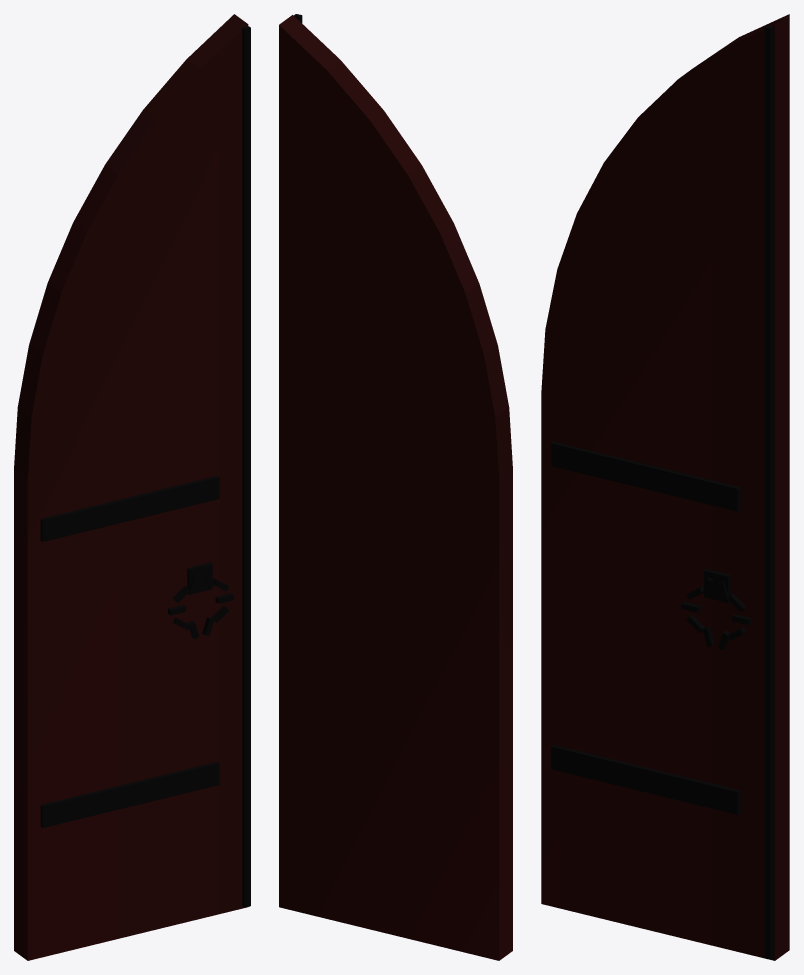
The model's file is SilverbrookNorthridgeHouse2_Door1.fbx.
The picture shows the model from 3 angles, left to right: view 1: azimuth 30°, elevation 25°; view 2: azimuth 150°, elevation 25°; view 3: azimuth 330°, elevation 25°; orthographic projection. The views are drawn at different scales.
Visible parts, largest first — view 1: SM_SBNorthridgeHouse2_Door1_Part; view 2: SM_SBNorthridgeHouse2_Door1_Part; view 3: SM_SBNorthridgeHouse2_Door1_Part.
Part boxes in pixels (x1,y1,x2,y2): SM_SBNorthridgeHouse2_Door1_Part: (14, 14, 250, 960); SM_SBNorthridgeHouse2_Door1_Part: (279, 14, 512, 960); SM_SBNorthridgeHouse2_Door1_Part: (541, 14, 789, 960).
Bounding box in the file's own units: 64.5 × 247 × 9.7.
